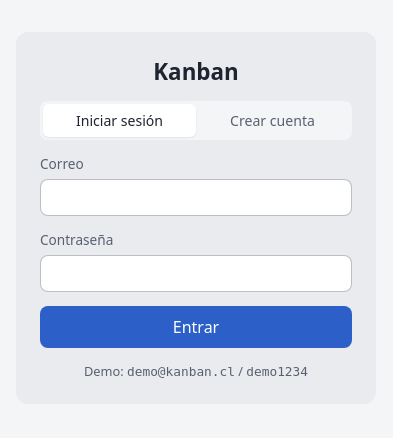
Scenario: pantalla de acceso › muestra el error del servidor si las credenciales no sirven (sin cerrar la sesión)
Step 1. Type "ana@ejemplo.cl" into the field labelled "Correo" → (196, 198), box left=40, top=179, right=352, bottom=216
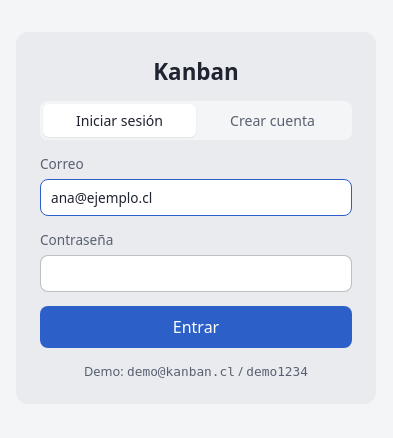
Step 2. Type "equivocada" into the password field labelled "Contraseña" → (196, 274), box left=40, top=255, right=352, bottom=292
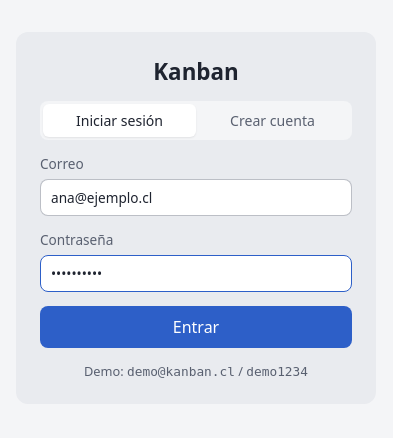
Step 3. Click the button "Entrar" → (196, 327), box left=40, top=306, right=352, bottom=348
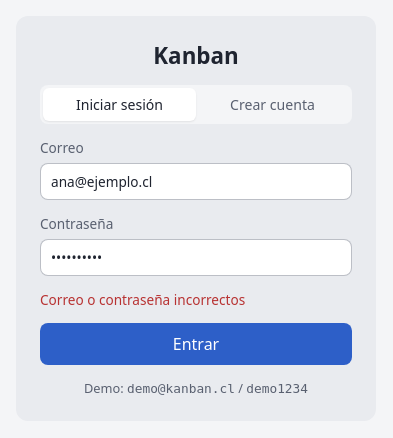
Expected: the button "Entrar" is enabled, left=40, top=322, right=352, bottom=364
Now the message reads "Correo o contraseña incorrectos", box left=40, top=290, right=245, bottom=308
